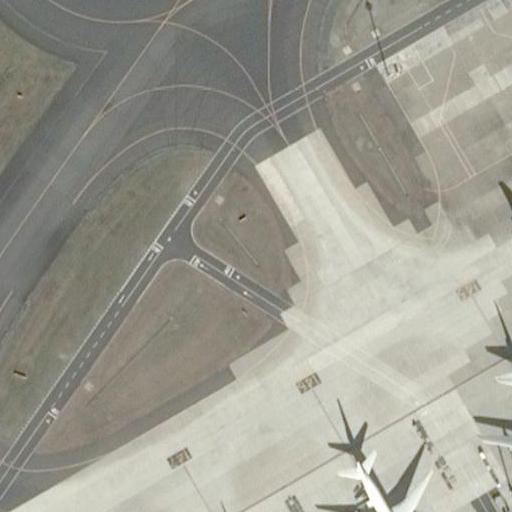Aircraft: (317, 439, 437, 512), (472, 340, 512, 494), (502, 160, 512, 270)
